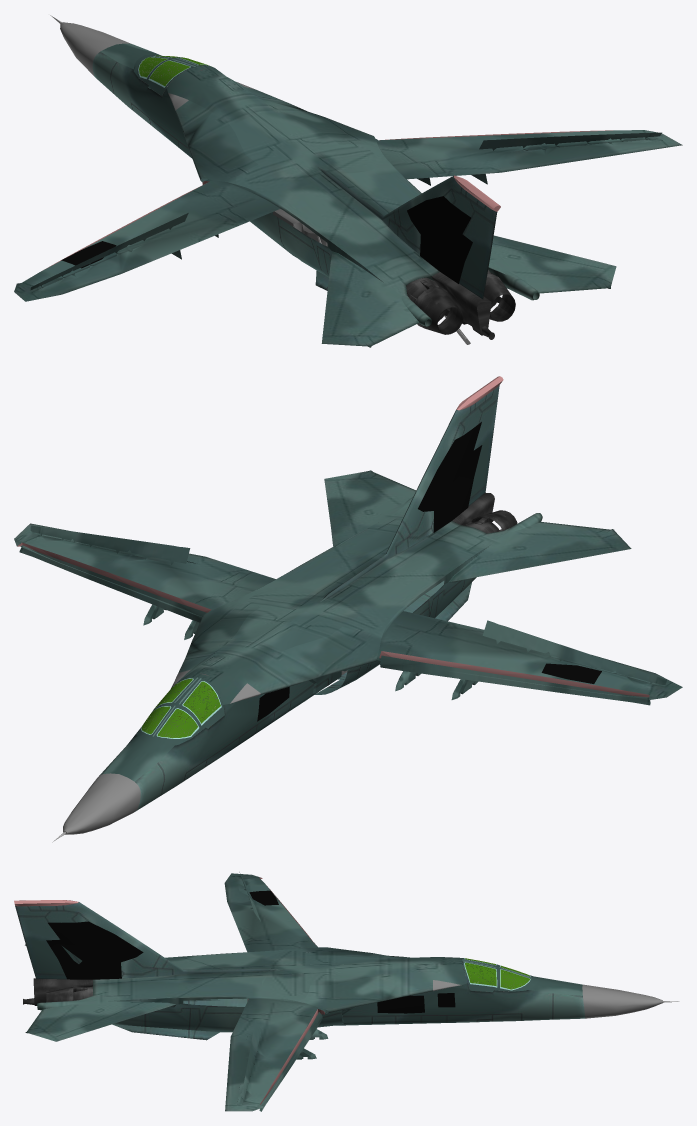
3 views of the same model, one above another, from view 1: azimuth 30°, elevation 25°; view 2: azimuth 150°, elevation 25°; view 3: azimuth 270°, elevation 25° (orthographic). The views are drawn at different scales.
Visible parts, largest first — view 1: body|F111top-FACES, body|F111down-FACES, body|F111tail-FACES, body|F111burn-FACES, body|F111uh_l-FACES, body|F111blck-FACES, body|F111red-FACES, body|F111star2-FACES, body|F111cpy1-FACES, body|F111gls4-FACES; view 2: body|F111top-FACES, body|F111down-FACES, body|F111tail-FACES, body|F111blck-FACES, body|F111uh_l-FACES, body|F111red-FACES, body|F111burn-FACES, body|F111cpy1-FACES, body|F111piz-FACES, body|F111gls4-FACES, body|F111star2-FACES, body|F111gls2-FACES; view 3: body|F111top-FACES, body|F111down-FACES, body|F111tail-FACES, body|F111uh_r-FACES, body|F111blck-FACES, body|F111burn-FACES, body|F111red-FACES, body|F111star-FACES, body|F111cpy1-FACES, body|F111gls3-FACES, body|F111gls1-FACES.
Boxes of the visible parts, x1,y1,x2,y2 form: body|F111top-FACES: (14,43,682,347); body|F111down-FACES: (92,51,416,290); body|F111tail-FACES: (318,167,497,299); body|F111burn-FACES: (406,270,515,339); body|F111uh_l-FACES: (407,196,472,283); body|F111blck-FACES: (60,22,470,344); body|F111red-FACES: (42,130,612,270); body|F111star2-FACES: (61,241,116,268); body|F111cpy1-FACES: (137,55,209,95); body|F111gls4-FACES: (149,60,189,86); body|F111top-FACES: (14,470,682,781); body|F111down-FACES: (99,577,476,811); body|F111tail-FACES: (320,385,499,601); body|F111blck-FACES: (63,670,347,834); body|F111uh_l-FACES: (418,422,482,532); body|F111red-FACES: (17,376,649,697); body|F111burn-FACES: (452,492,517,533); body|F111cpy1-FACES: (139,677,224,740); body|F111piz-FACES: (143,604,478,699); body|F111gls4-FACES: (183,681,220,723); body|F111star2-FACES: (541,663,601,683); body|F111gls2-FACES: (157,709,197,738); body|F111top-FACES: (25,872,582,1111); body|F111down-FACES: (112,964,585,1040); body|F111tail-FACES: (15,902,282,979); body|F111uh_r-FACES: (46,921,143,979); body|F111blck-FACES: (247,974,662,1018); body|F111burn-FACES: (23,978,92,1005); body|F111red-FACES: (14,877,324,1104); body|F111star-FACES: (377,995,424,1013); body|F111cpy1-FACES: (462,958,531,992); body|F111gls3-FACES: (465,962,496,986); body|F111gls1-FACES: (500,969,530,989).
Size of the model in its own units: 18.87 by 4.74 by 22.4.
Materials: 98 (12 with a texture image).
